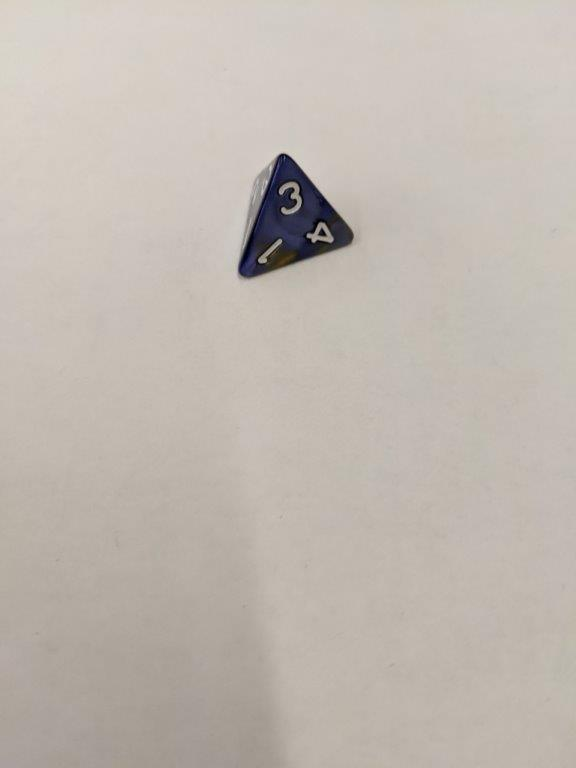d4-3: (234, 148, 359, 282)
